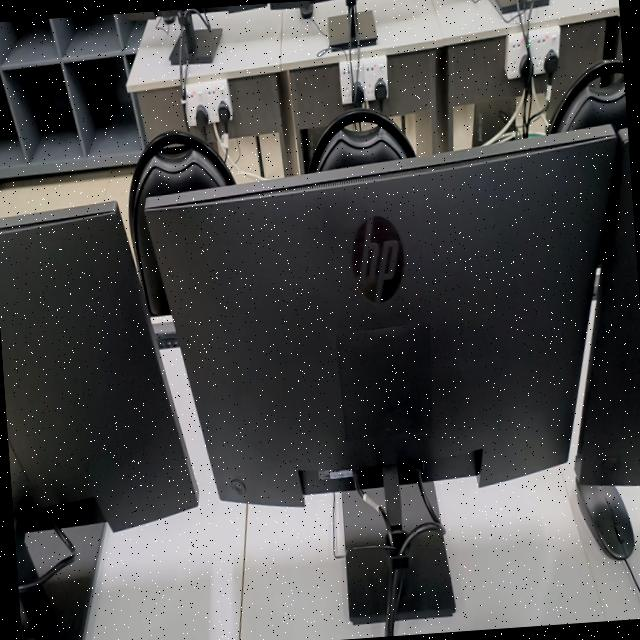Chair: (128, 131, 235, 314), (307, 109, 414, 172), (546, 58, 627, 134)
Monitor: (145, 130, 618, 506), (0, 202, 197, 531), (577, 131, 640, 486)
Mouse: (575, 474, 634, 559)
